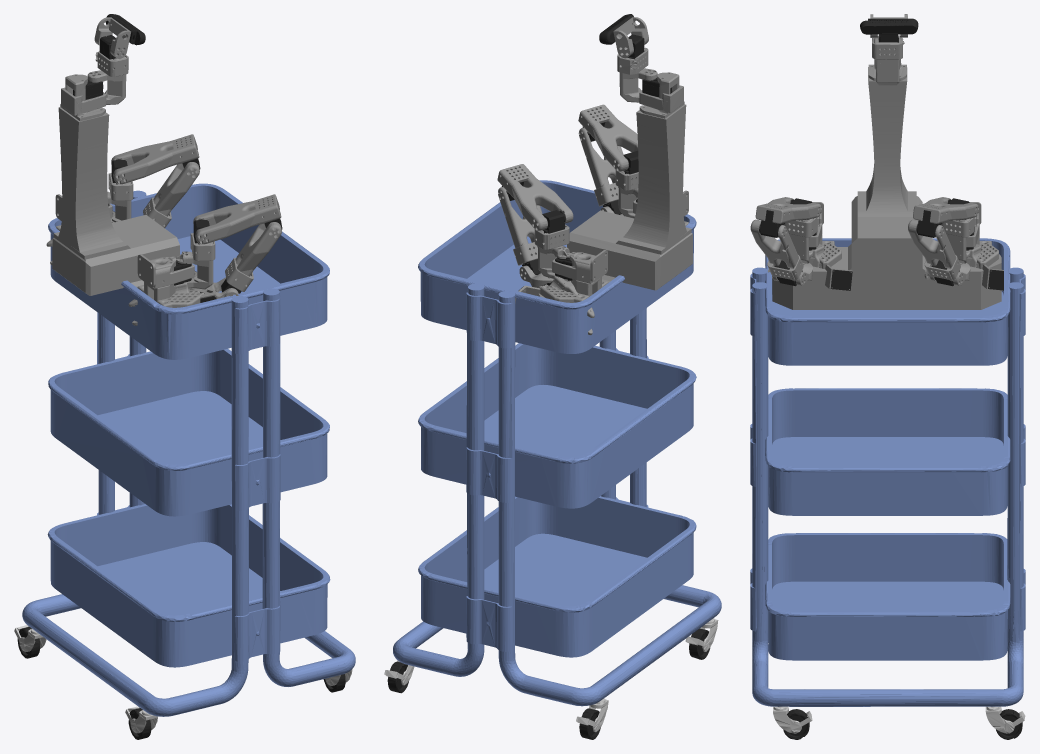
Rendered from xlerobot.glb.
3 views of the same model, side by side, from view 1: azimuth 30°, elevation 25°; view 2: azimuth 150°, elevation 25°; view 3: azimuth 270°, elevation 25° (orthographic). The views are drawn at different scales.
Visible parts, largest first — view 1: base_link__raskog, top_base_link__top_base_link_visual1, Upper_Arm__upper_arm_chassis, Upper_Arm_2__upper_arm_chassis, Base__base_link_chassis, Lower_Arm__lower_arm_chassis, Lower_Arm_2__lower_arm_chassis, head_pan_link__top_head_1, Rotation_Pitch__rotation_pitch_chassis, base_link__raskogwheel1, Rotation_Pitch_2__rotation_pitch_chassis, head_tilt_link__top_head_3 (+1 smaller); view 2: base_link__raskog, top_base_link__top_base_link_visual1, Upper_Arm_2__upper_arm_chassis, Base_2__base_link_chassis, Upper_Arm__upper_arm_chassis, Lower_Arm_2__lower_arm_chassis, Lower_Arm__lower_arm_chassis, head_pan_link__top_head_1, Rotation_Pitch_2__rotation_pitch_chassis, base_link__raskogwheel2, base_link__raskogwheel1, Rotation_Pitch__rotation_pitch_chassis (+1 smaller); view 3: base_link__raskog, top_base_link__top_base_link_visual1, Lower_Arm__lower_arm_chassis, Lower_Arm_2__lower_arm_chassis, head_pan_link__top_head_1, Upper_Arm_2__upper_arm_chassis, Upper_Arm__upper_arm_chassis, base_link__raskogwheel1, head_tilt_link__top_head_3__1, Rotation_Pitch_2__rotation_pitch_chassis, Rotation_Pitch__rotation_pitch_chassis, base_link__raskogwheel2 (+2 smaller).
Boxes of the visible parts, left/top/right/bottom form: base_link__raskog: left=22, top=183, right=355, bottom=716; top_base_link__top_base_link_visual1: left=52, top=74, right=179, bottom=299; Upper_Arm__upper_arm_chassis: left=193, top=194, right=281, bottom=244; Upper_Arm_2__upper_arm_chassis: left=111, top=134, right=199, bottom=184; Base__base_link_chassis: left=137, top=254, right=204, bottom=307; Lower_Arm__lower_arm_chassis: left=225, top=222, right=281, bottom=291; Lower_Arm_2__lower_arm_chassis: left=143, top=162, right=199, bottom=228; head_pan_link__top_head_1: left=87, top=51, right=128, bottom=104; Rotation_Pitch__rotation_pitch_chassis: left=176, top=233, right=215, bottom=289; base_link__raskogwheel1: left=14, top=625, right=352, bottom=733; Rotation_Pitch_2__rotation_pitch_chassis: left=107, top=173, right=133, bottom=222; head_tilt_link__top_head_3: left=94, top=17, right=130, bottom=58; base_link__raskog: left=393, top=180, right=721, bottom=706; top_base_link__top_base_link_visual1: left=538, top=72, right=692, bottom=297; Upper_Arm_2__upper_arm_chassis: left=497, top=164, right=573, bottom=230; Base_2__base_link_chassis: left=540, top=250, right=608, bottom=302; Upper_Arm__upper_arm_chassis: left=578, top=104, right=638, bottom=171; Lower_Arm_2__lower_arm_chassis: left=498, top=187, right=542, bottom=265; Lower_Arm__lower_arm_chassis: left=578, top=127, right=623, bottom=206; head_pan_link__top_head_1: left=617, top=47, right=657, bottom=102; Rotation_Pitch_2__rotation_pitch_chassis: left=534, top=224, right=570, bottom=281; base_link__raskogwheel2: left=387, top=628, right=710, bottom=739; base_link__raskogwheel1: left=384, top=618, right=718, bottom=732; Rotation_Pitch__rotation_pitch_chassis: left=615, top=170, right=638, bottom=218; base_link__raskog: left=750, top=238, right=1025, bottom=706; top_base_link__top_base_link_visual1: left=772, top=59, right=1001, bottom=309; Lower_Arm__lower_arm_chassis: left=750, top=219, right=803, bottom=281; Lower_Arm_2__lower_arm_chassis: left=908, top=219, right=960, bottom=281; head_pan_link__top_head_1: left=872, top=35, right=904, bottom=85; Upper_Arm_2__upper_arm_chassis: left=913, top=197, right=978, bottom=223; Upper_Arm__upper_arm_chassis: left=755, top=197, right=821, bottom=223; base_link__raskogwheel1: left=773, top=706, right=1025, bottom=733; head_tilt_link__top_head_3__1: left=860, top=18, right=918, bottom=34; Rotation_Pitch_2__rotation_pitch_chassis: left=941, top=217, right=974, bottom=263; Rotation_Pitch__rotation_pitch_chassis: left=784, top=217, right=817, bottom=263; base_link__raskogwheel2: left=783, top=709, right=1022, bottom=739.
Bounding box in the file's own units: 0.4237 × 1.2 × 0.4662.
